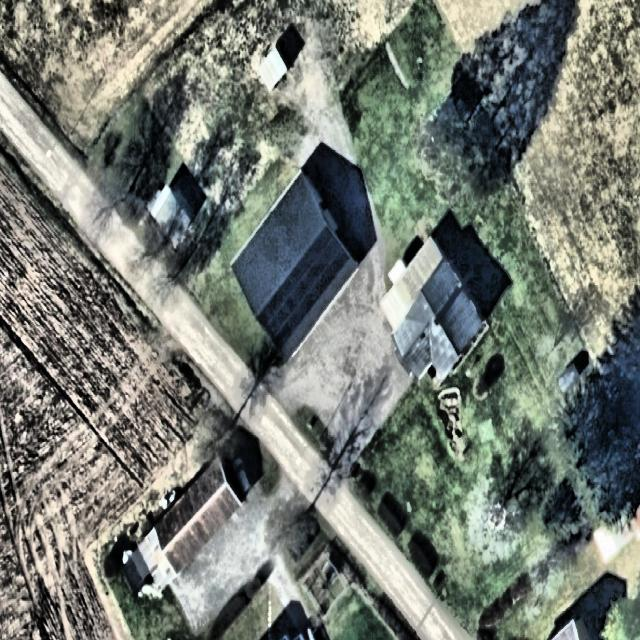roof_pv: (259, 276, 296, 356), (312, 228, 351, 294), (292, 248, 315, 327)
